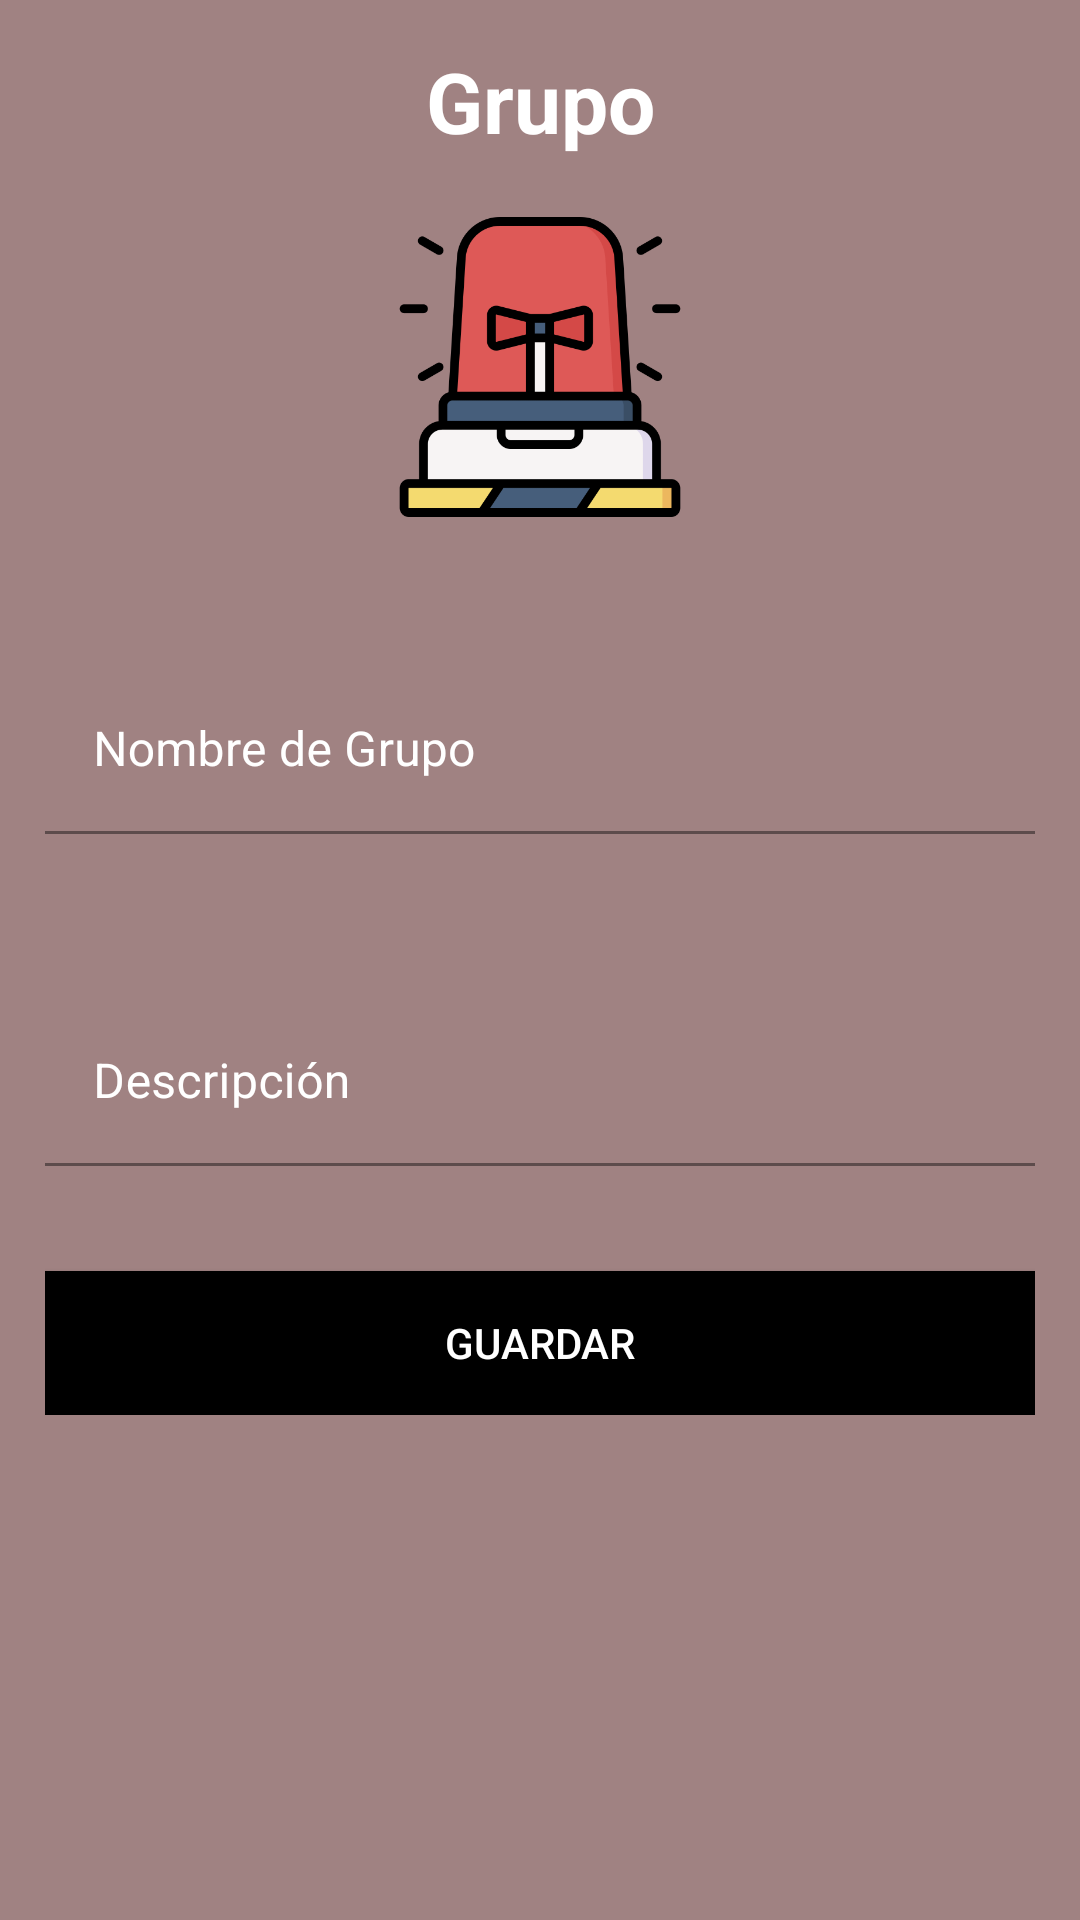

Screen size 1080px x 1920px. Icon name, then its center in pixels as (x=x, y=y):
sirena: (x=540, y=367)
